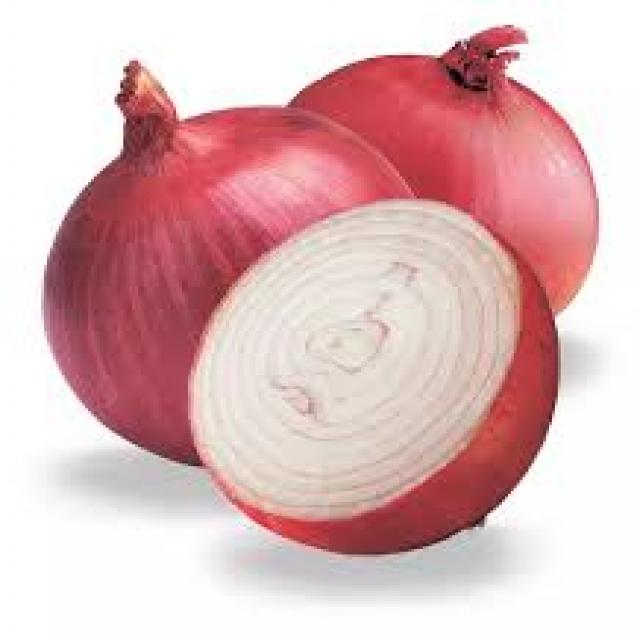organic waste: (41, 58, 417, 463), (188, 193, 561, 555), (285, 22, 599, 315)
